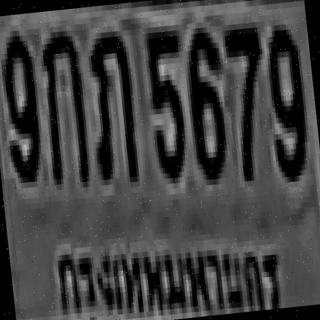A01: (36, 25, 90, 185)
A32: (81, 25, 139, 180)
N05: (140, 19, 191, 179)
N06: (182, 21, 228, 175)
N07: (221, 22, 270, 176)
N09: (260, 18, 309, 178), (0, 30, 41, 178)
P04: (46, 216, 286, 320)
